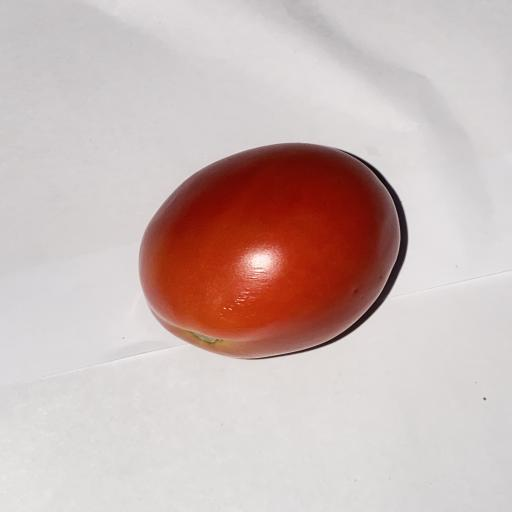ripe: (140, 144, 400, 358)
